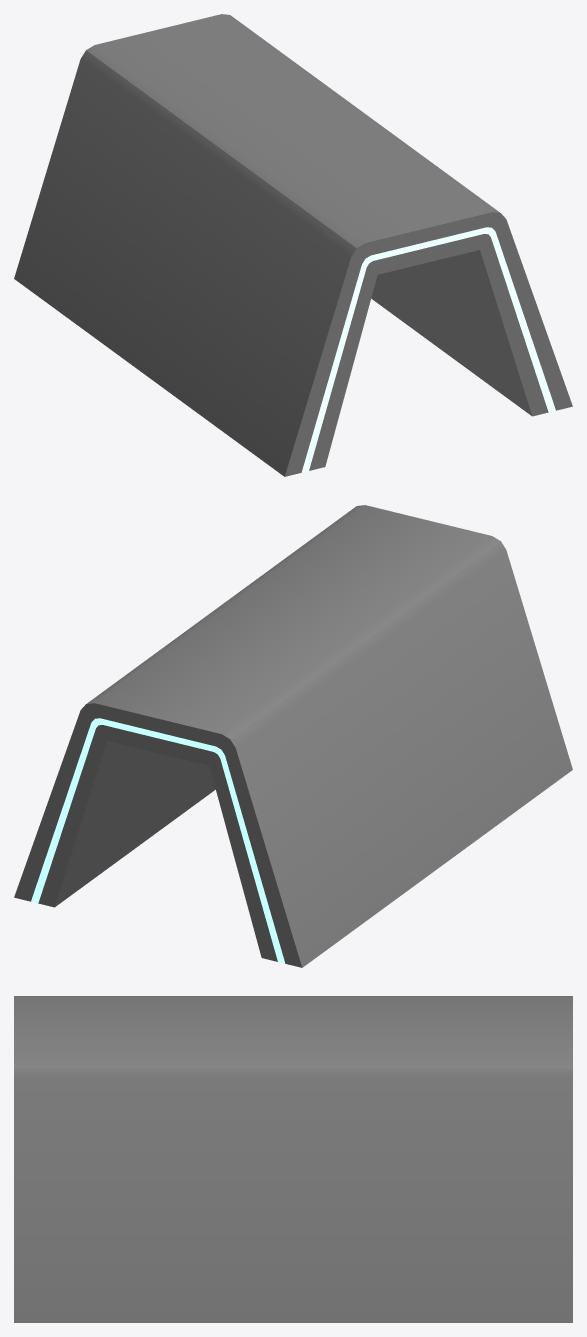
File: Tunnel_01.fbx
3 renders of one model, top to bottom at view 1: azimuth 30°, elevation 25°; view 2: azimuth 150°, elevation 25°; view 3: azimuth 270°, elevation 25°, orthographic. The views are drawn at different scales.
Parts seen in each view (by area): view 1: Tunnel_01; view 2: Tunnel_01; view 3: Tunnel_01.
Part boxes in pixels (x1,y1,x2,y2): Tunnel_01: (14,14,572,476); Tunnel_01: (14,505,572,967); Tunnel_01: (14,996,572,1322).
Bounding box in the file's own units: 529 × 375 × 860.
